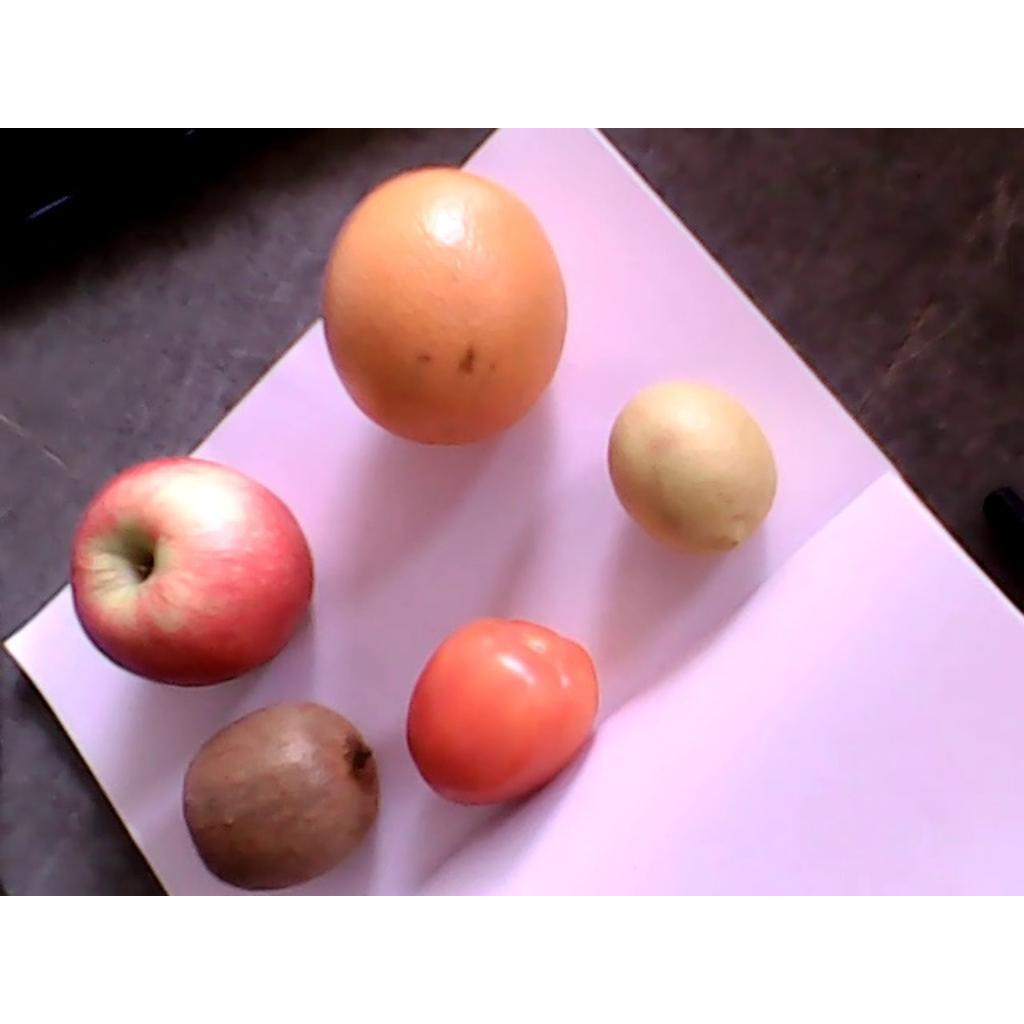apple: (72, 459, 314, 689)
kiwi: (182, 701, 383, 891)
lemon: (609, 383, 772, 555)
orange: (321, 166, 567, 446)
tomato: (405, 617, 598, 806)
